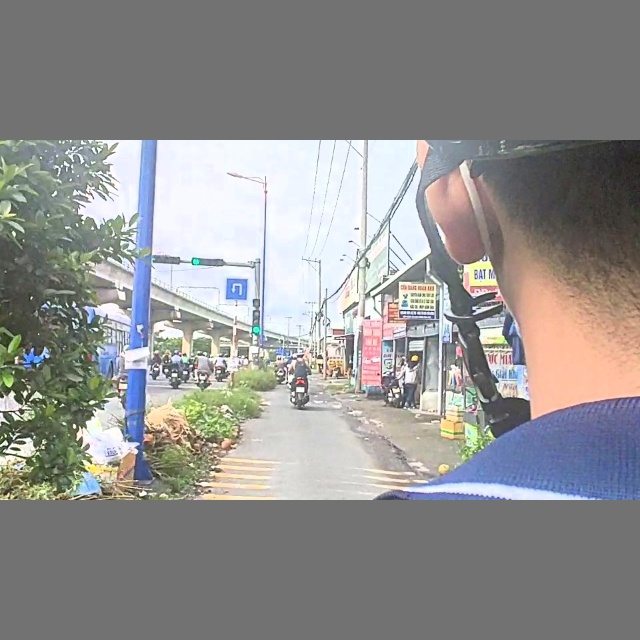I.409: (224, 277, 250, 303)
